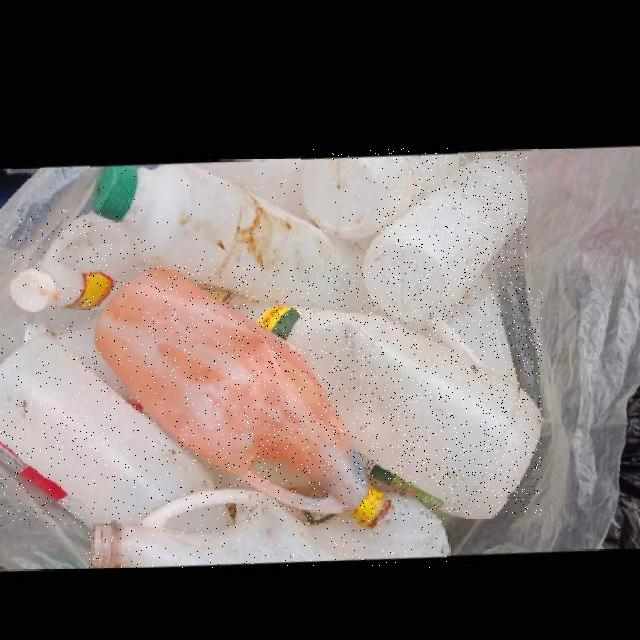plastic: (93, 265, 394, 529), (207, 287, 542, 516), (90, 160, 376, 308), (0, 334, 214, 527), (87, 486, 447, 567), (363, 153, 528, 318), (10, 210, 149, 312), (301, 148, 458, 235), (23, 317, 150, 412)
